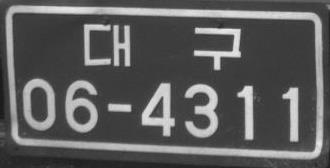0: (21, 77, 56, 131)
1: (231, 84, 267, 141), (276, 85, 311, 142)
3: (183, 82, 219, 138)
4: (141, 81, 176, 136)
6: (65, 77, 98, 134)
대구_D: (82, 22, 241, 71)
